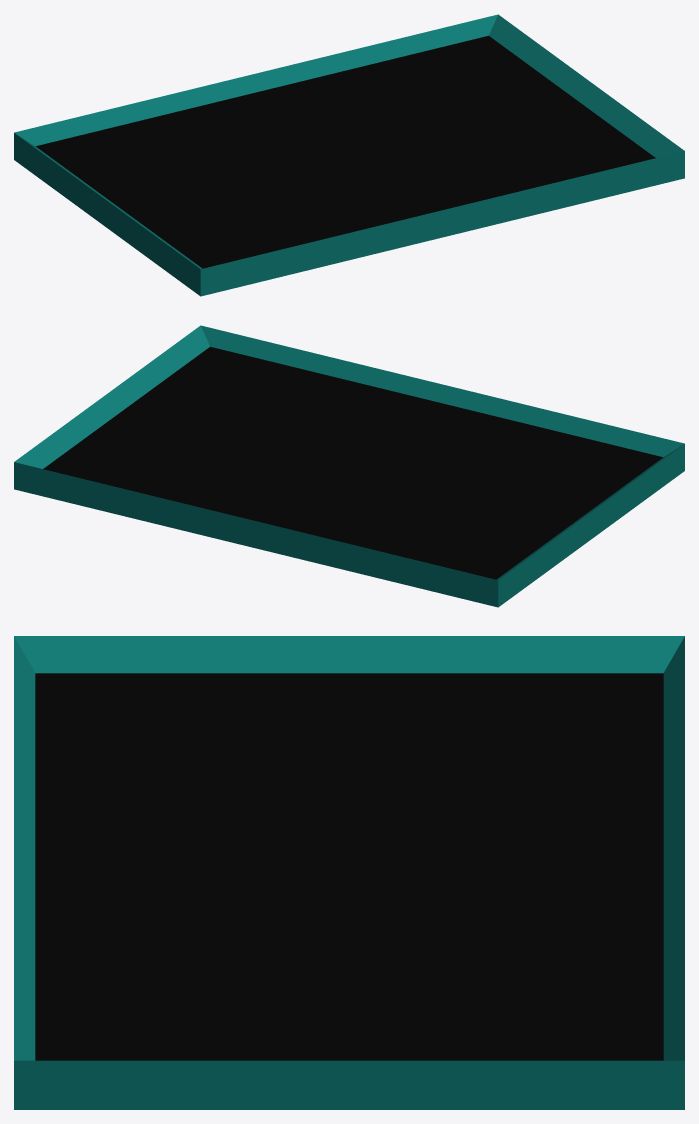
The model's file is medbayScreen.fbx.
3 views of the same model, one above another, from view 1: azimuth 30°, elevation 25°; view 2: azimuth 150°, elevation 25°; view 3: azimuth 270°, elevation 25° (orthographic). The views are drawn at different scales.
Visible parts, largest first — view 1: Screen; view 2: Screen; view 3: Screen.
Part boxes in pixels (x1=…): Screen: x1=14, y1=14, x2=684, y2=296; Screen: x1=14, y1=325, x2=684, y2=607; Screen: x1=14, y1=636, x2=684, y2=1109.
Size of the model in its own units: 714 by 38.48 by 476.
